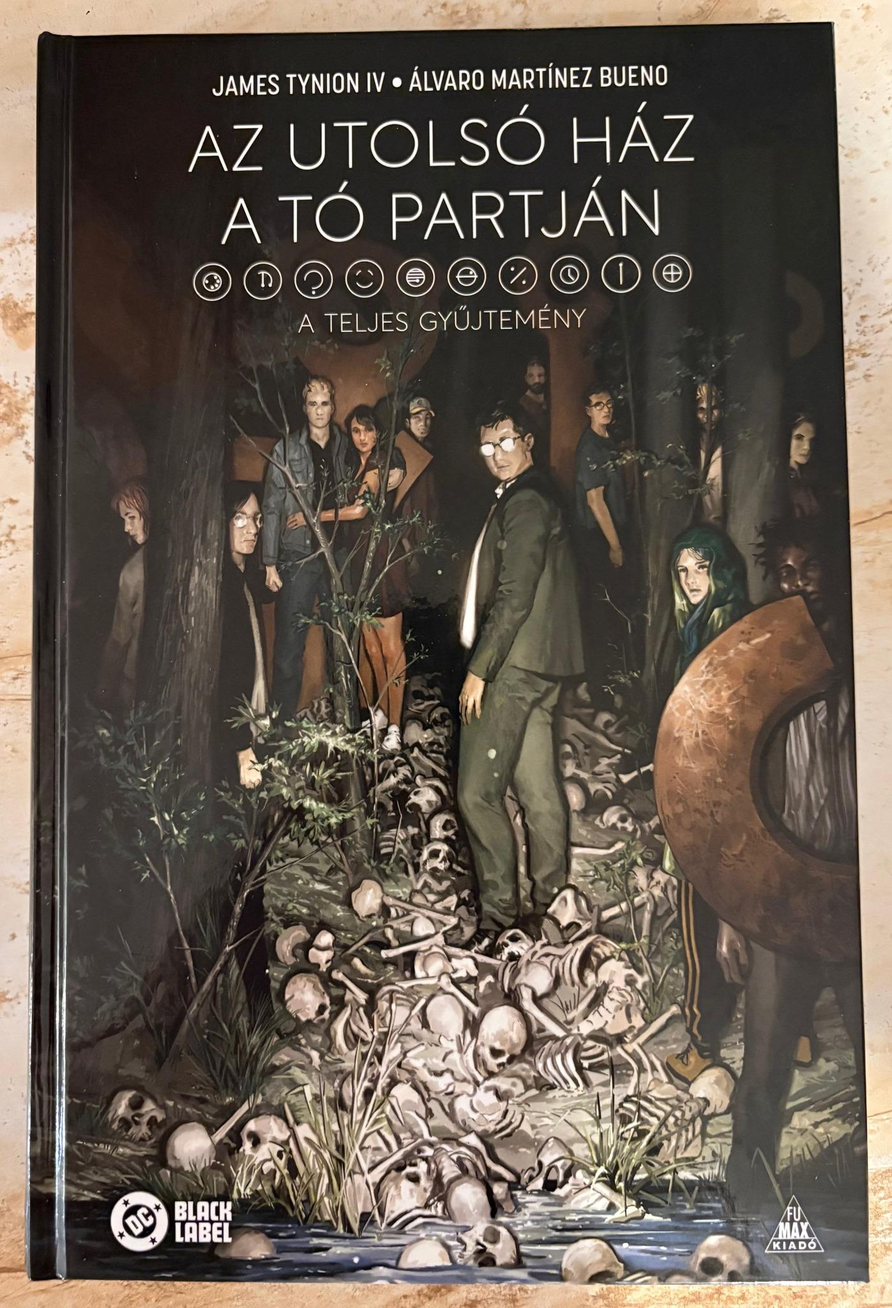comic: (11, 24, 867, 1293)
